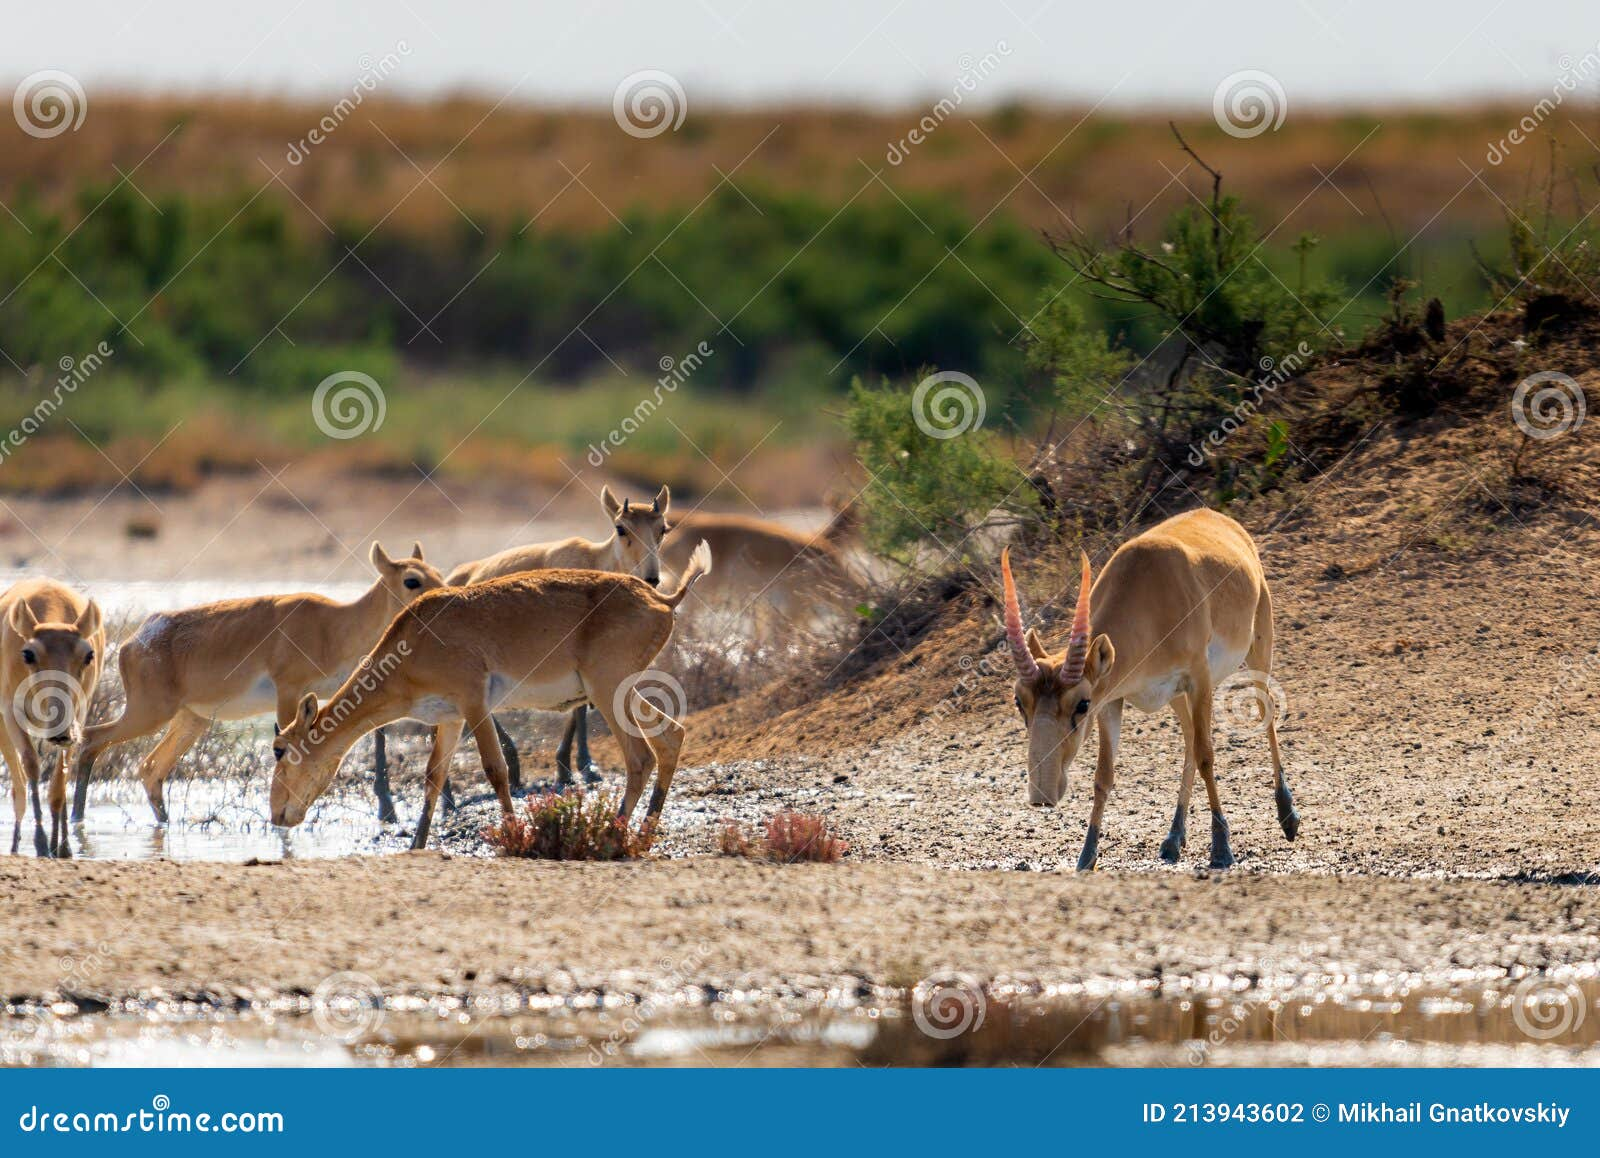saiga: (265, 549, 704, 864), (988, 504, 1325, 878)
